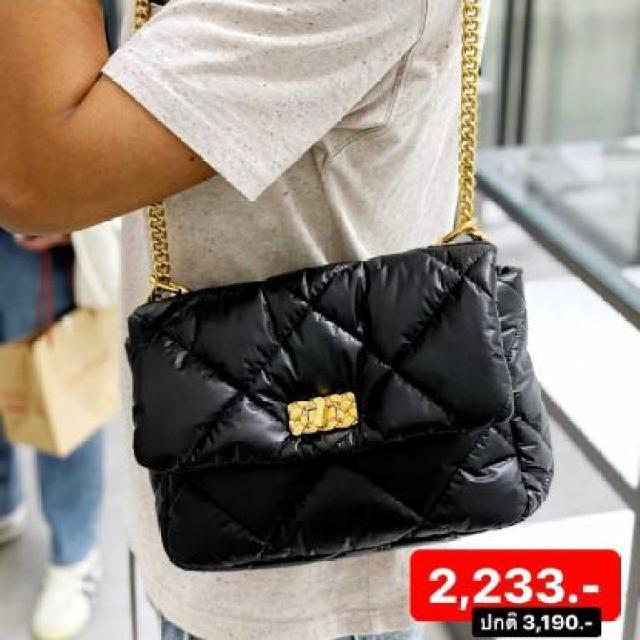Bag: (106, 66, 579, 572)
